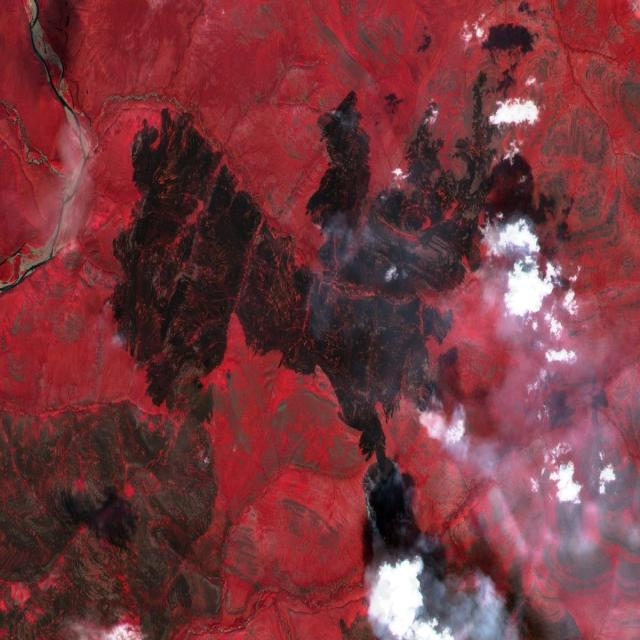fire: (356, 450, 410, 527), (409, 356, 450, 428), (300, 208, 338, 265), (324, 98, 347, 131)
